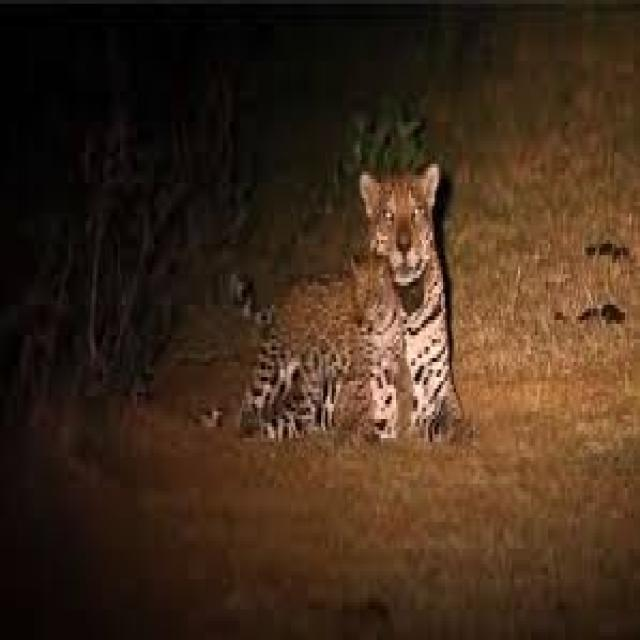Jaguar: (231, 164, 467, 442)
